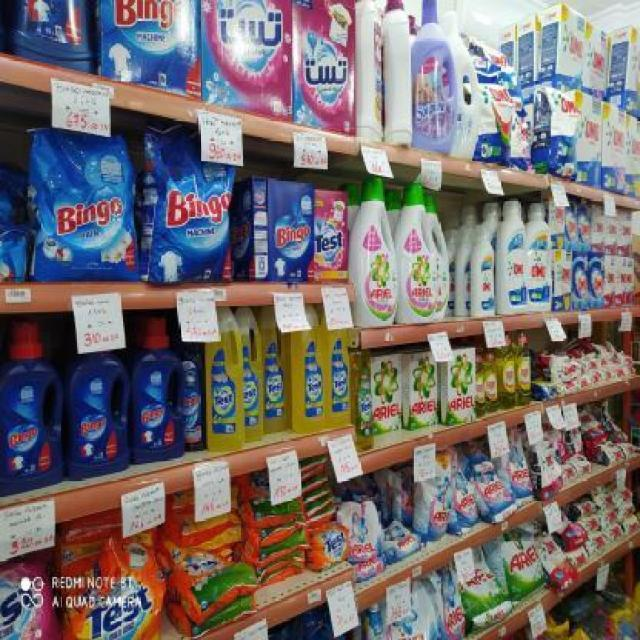Detergent: (353, 169, 397, 326), (395, 181, 437, 323), (450, 558, 504, 627), (401, 348, 439, 430), (371, 350, 407, 434), (429, 560, 466, 640), (420, 452, 451, 541), (441, 351, 477, 423), (342, 504, 382, 561), (470, 469, 508, 525), (453, 460, 479, 528), (380, 518, 422, 560), (355, 553, 391, 579)
